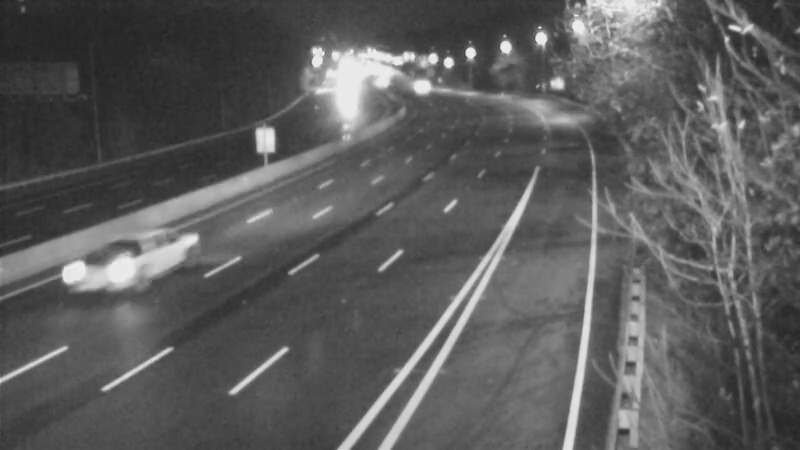vehicle: (65, 233, 145, 313), (356, 58, 406, 108), (392, 60, 442, 110)
